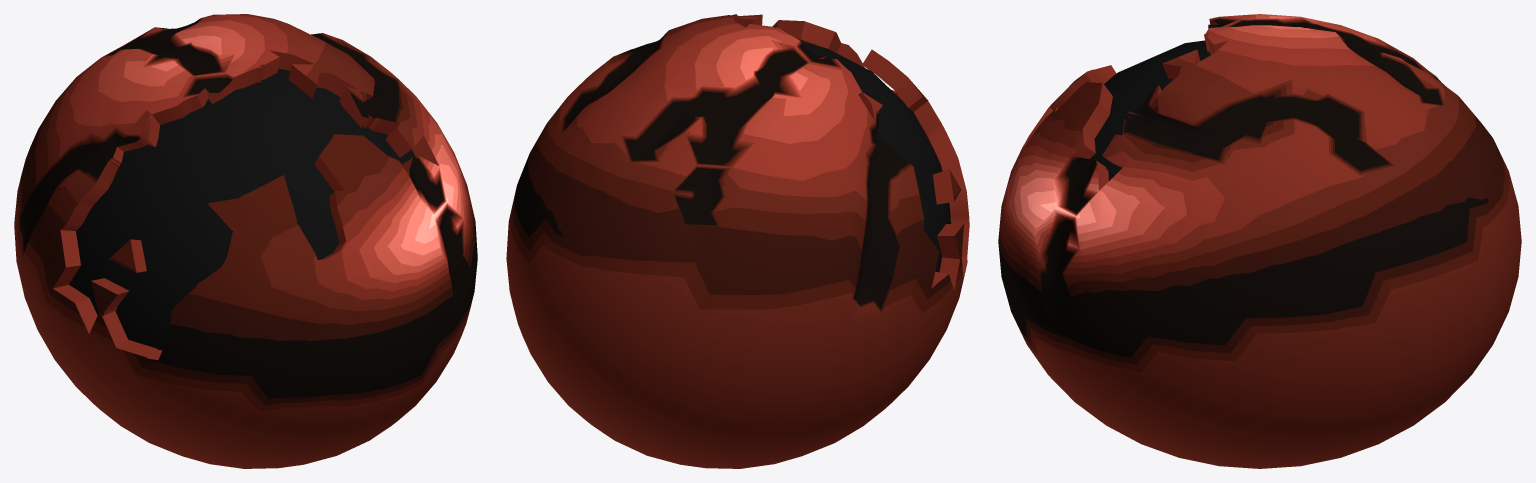
File: red_ball_cracked.glb
3 views of the same model, side by side, from view 1: azimuth 30°, elevation 25°; view 2: azimuth 150°, elevation 25°; view 3: azimuth 270°, elevation 25° (orthographic).
Parts seen in each view (by area): view 1: red_ball_cracked_shell, red_ball_hollow, red_ball_cracked_edge; view 2: red_ball_cracked_shell, red_ball_cracked_edge, red_ball_hollow; view 3: red_ball_cracked_shell, red_ball_hollow, red_ball_cracked_edge.
Part boxes in pixels (left/top/right/bottom): red_ball_cracked_shell: left=14, top=14, right=477, bottom=468; red_ball_hollow: left=69, top=68, right=415, bottom=350; red_ball_cracked_edge: left=53, top=50, right=439, bottom=359; red_ball_cracked_shell: left=506, top=14, right=967, bottom=468; red_ball_cracked_edge: left=731, top=14, right=969, bottom=289; red_ball_hollow: left=800, top=41, right=951, bottom=272; red_ball_cracked_shell: left=998, top=14, right=1521, bottom=468; red_ball_hollow: left=1090, top=40, right=1210, bottom=180; red_ball_cracked_edge: left=1022, top=19, right=1227, bottom=190.
Bounding box in the file's own units: 12 × 12 × 13.8.
